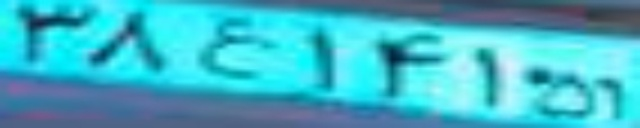1: (307, 24, 344, 90), (469, 46, 506, 107), (602, 78, 631, 121)
3: (16, 2, 96, 66)
4: (375, 32, 448, 97)
5: (534, 72, 594, 119)
8: (88, 10, 163, 74)
ain: (193, 17, 272, 80)
